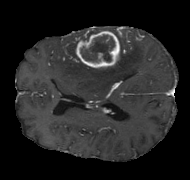Edema: (60, 31, 148, 98)
EnhancingTumors: (71, 25, 124, 74)
Necrosis: (74, 31, 120, 70)
